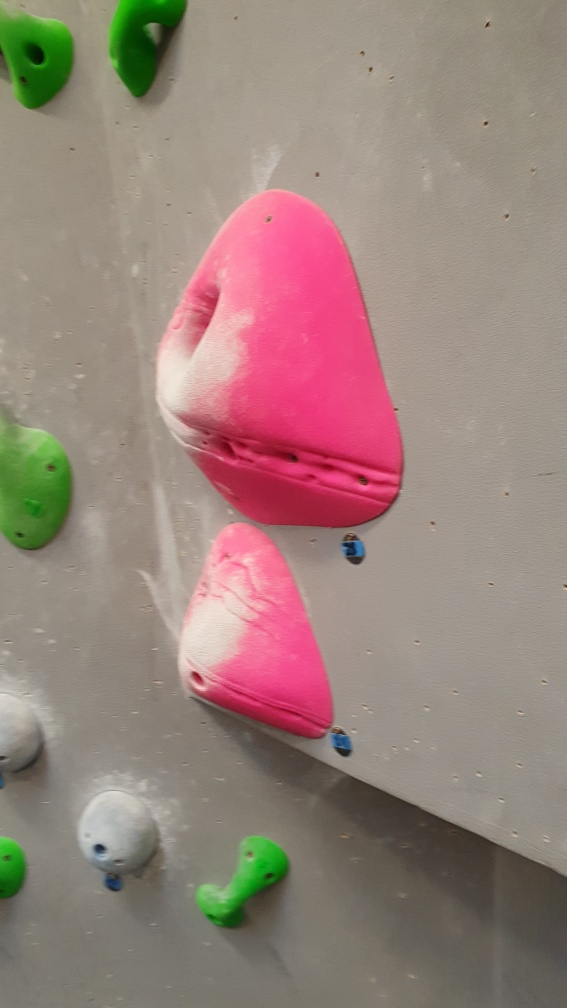Hand Start: (340, 531, 368, 570), (332, 727, 354, 757), (100, 873, 125, 896)
Pocket: (155, 190, 405, 530), (175, 521, 334, 741)
Sloper: (76, 791, 161, 874), (1, 690, 45, 773)
